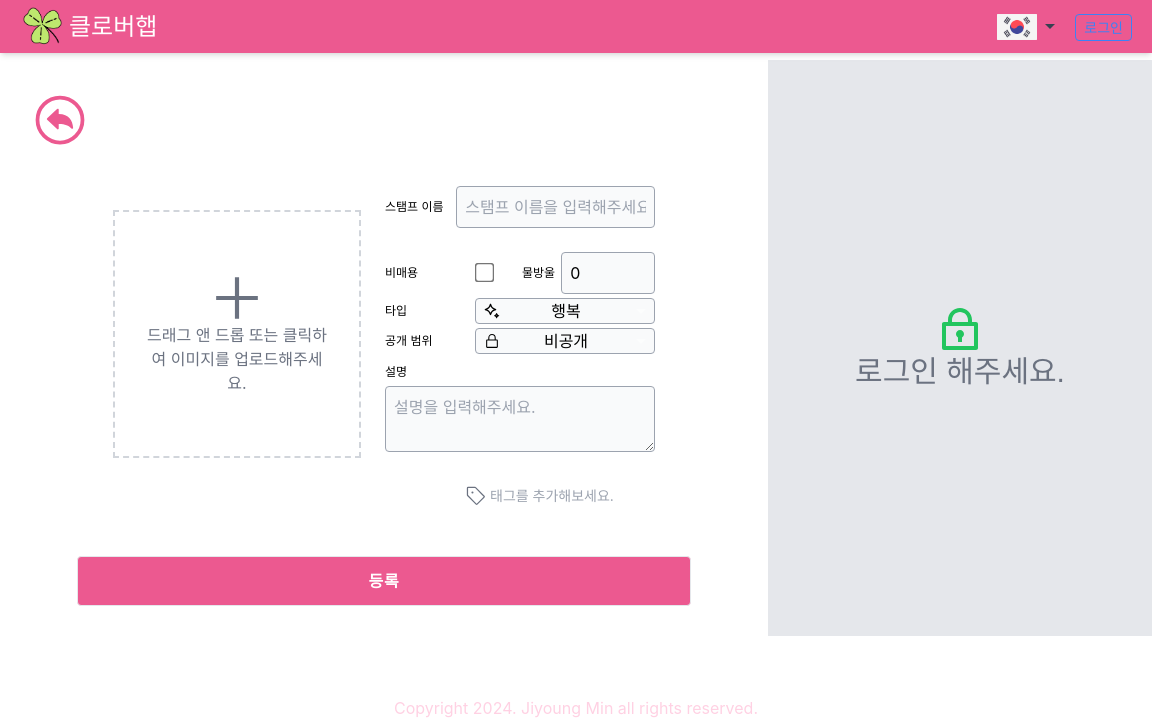
Test: Upload Page › 이미지가 없는 경우 경고 메세지 출력
이미지를 등록하지 않은 상태에서 업로드 버튼 클릭
Click the button with id "uploadButton": (384, 581) [77,556,691,606]
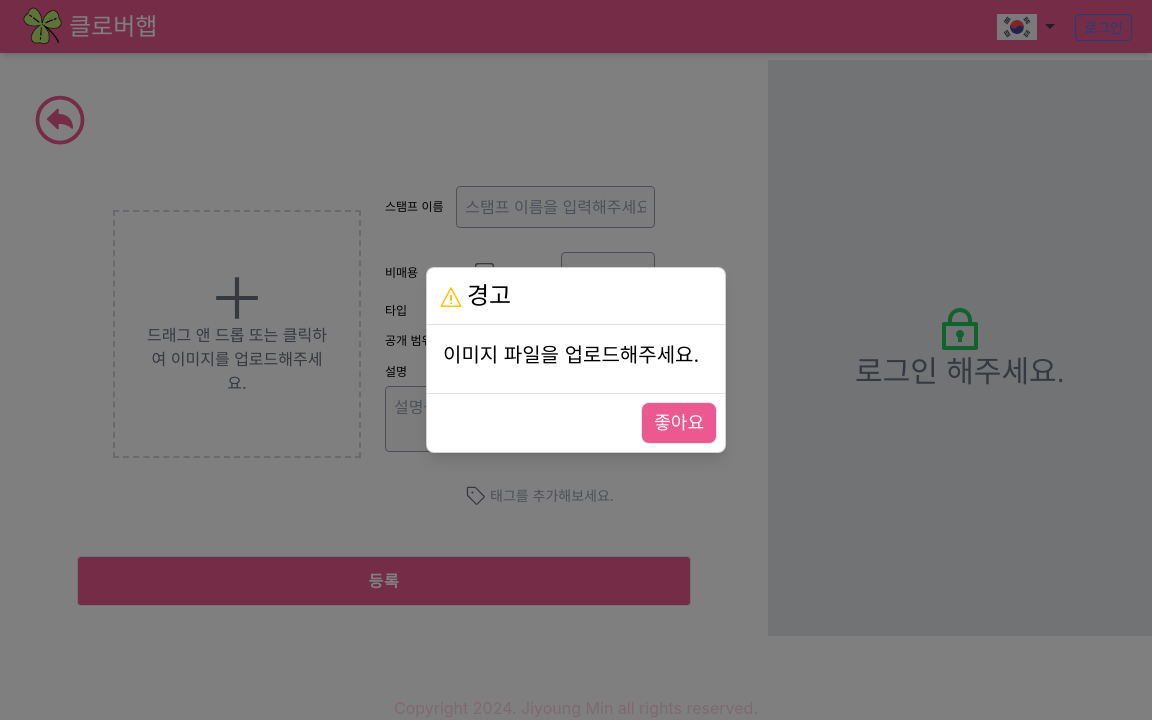
Expected: the text with id "commonDialog" reads "이미지 파일을 업로드해주세요.", [443,343,699,367]
